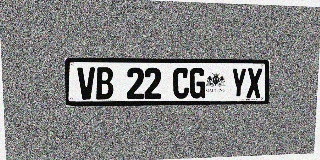2: (127, 67, 144, 99), (144, 67, 161, 99)
B: (96, 67, 113, 99)
C: (173, 68, 189, 99)
G: (189, 68, 206, 98)
V: (77, 67, 95, 100)
X: (246, 68, 262, 98)
Y: (231, 68, 247, 98)
